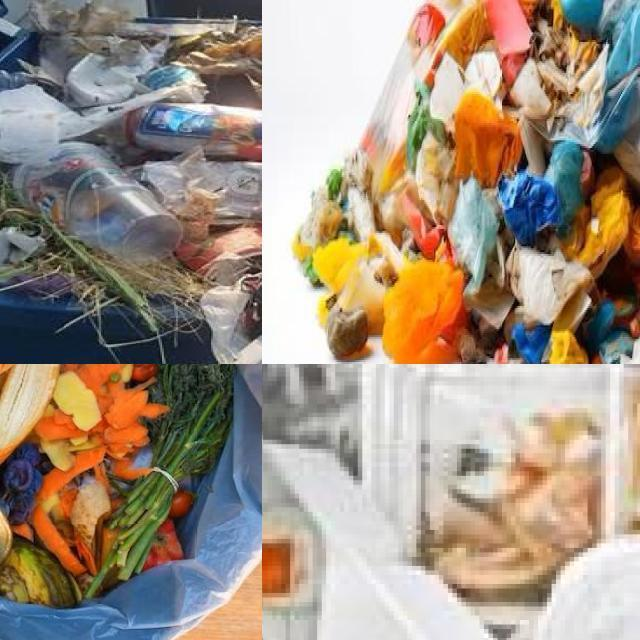Disposable: (363, 364, 640, 596), (262, 440, 492, 640), (14, 143, 182, 262), (262, 364, 360, 468)
Garbage: (292, 0, 640, 364), (262, 364, 640, 640), (0, 1, 262, 364), (0, 364, 235, 607)
Plastic_Bag: (360, 0, 640, 243), (142, 151, 262, 216), (448, 176, 499, 293), (200, 275, 262, 364)
can: (126, 103, 262, 160)
